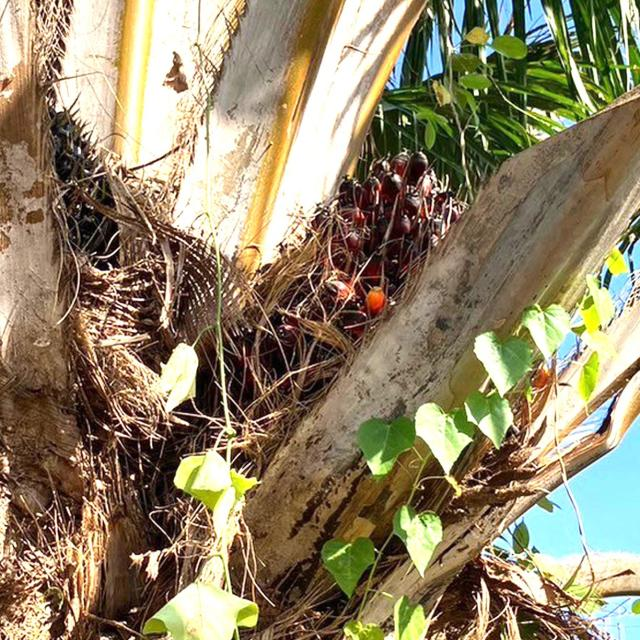ripe: (230, 143, 463, 398)
